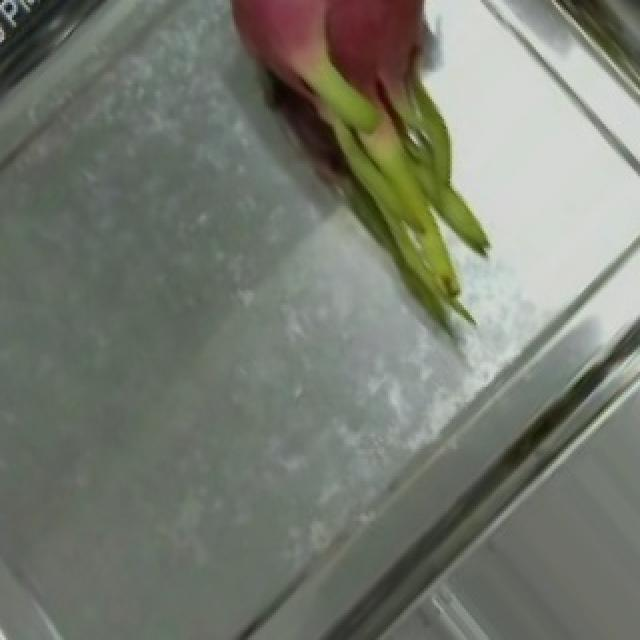fruit: (144, 0, 586, 335)
